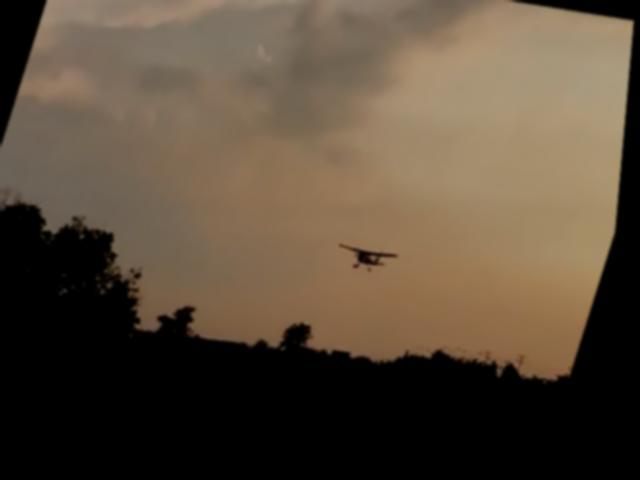plane: (337, 244, 405, 287)
